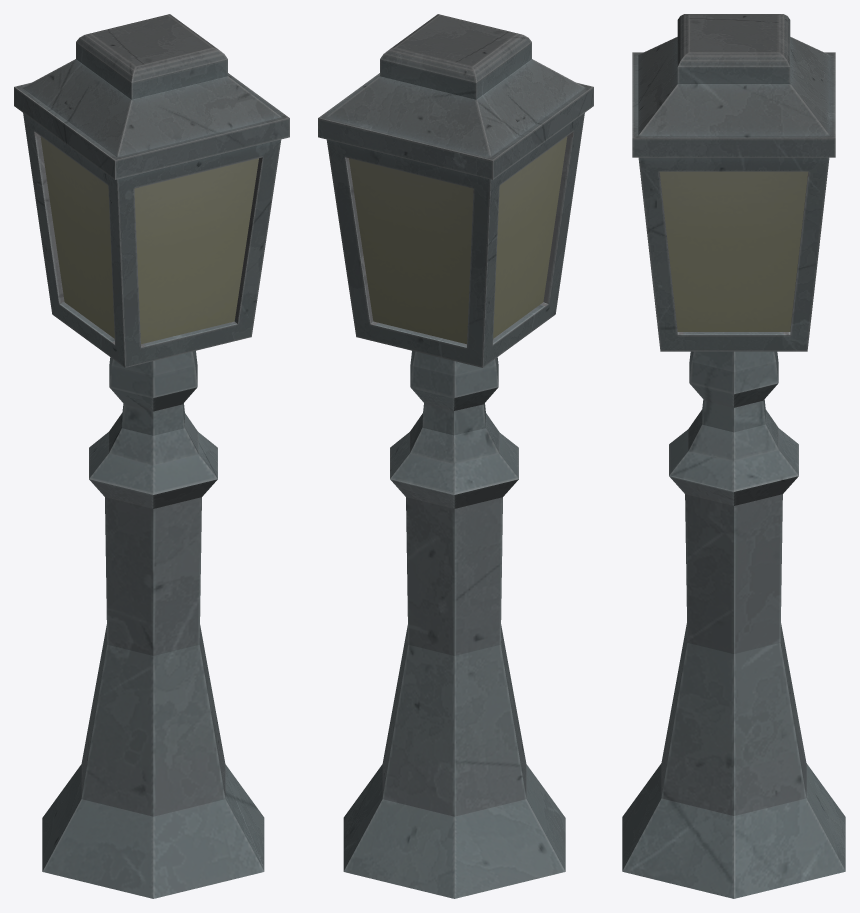
File: Lamp_B.fbx
3 views of the same model, side by side, from view 1: azimuth 30°, elevation 25°; view 2: azimuth 150°, elevation 25°; view 3: azimuth 270°, elevation 25° (orthographic).
Visible parts, largest first — view 1: Lamp_B; view 2: Lamp_B; view 3: Lamp_B.
Boxes of the visible parts, bbox=[...] form: Lamp_B: bbox=[14, 14, 289, 898]; Lamp_B: bbox=[318, 14, 593, 898]; Lamp_B: bbox=[622, 14, 845, 898].
Bounding box in the file's own units: 64.12 × 222 × 55.53.
Materials: 2 (2 with a texture image).
